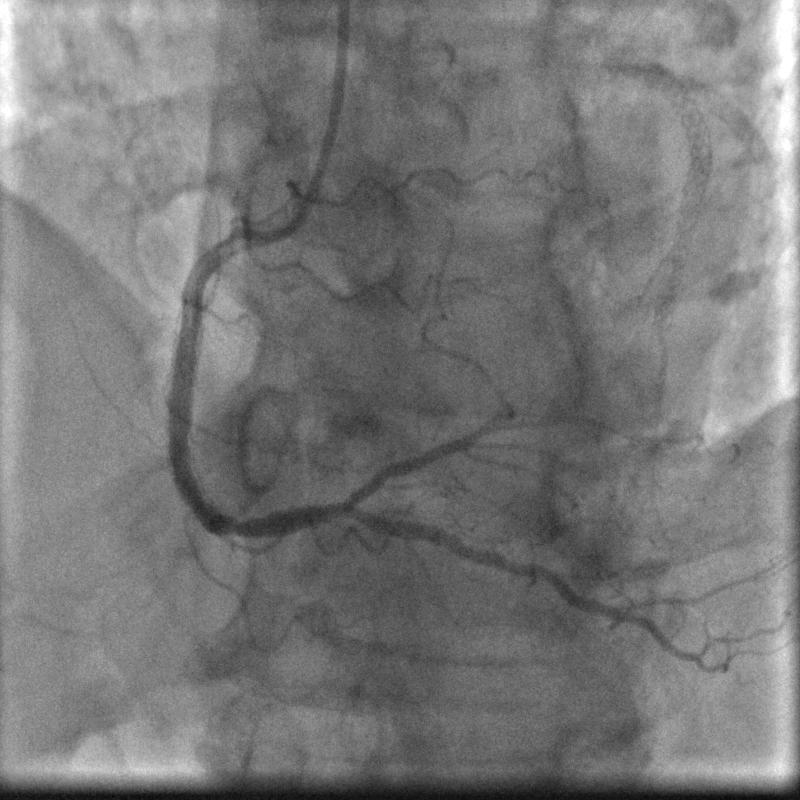Stenosis: (205, 226, 261, 273)
